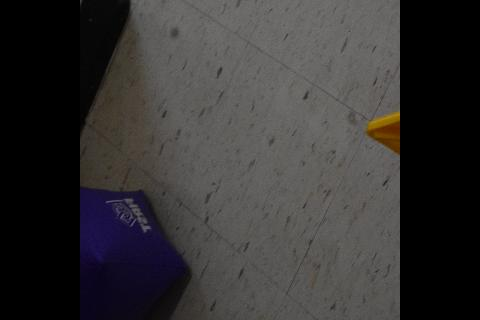cone: (364, 110, 400, 156)
cube: (80, 185, 188, 320)
